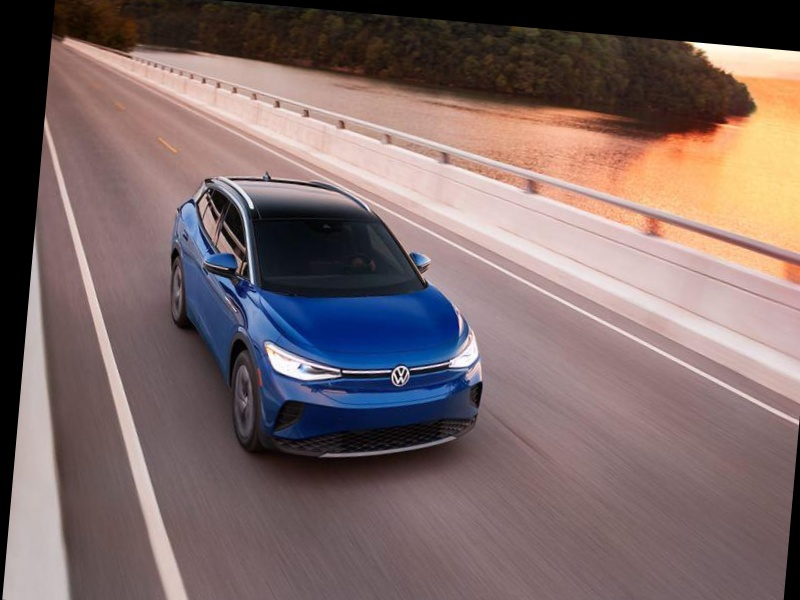car: (98, 133, 557, 515)
